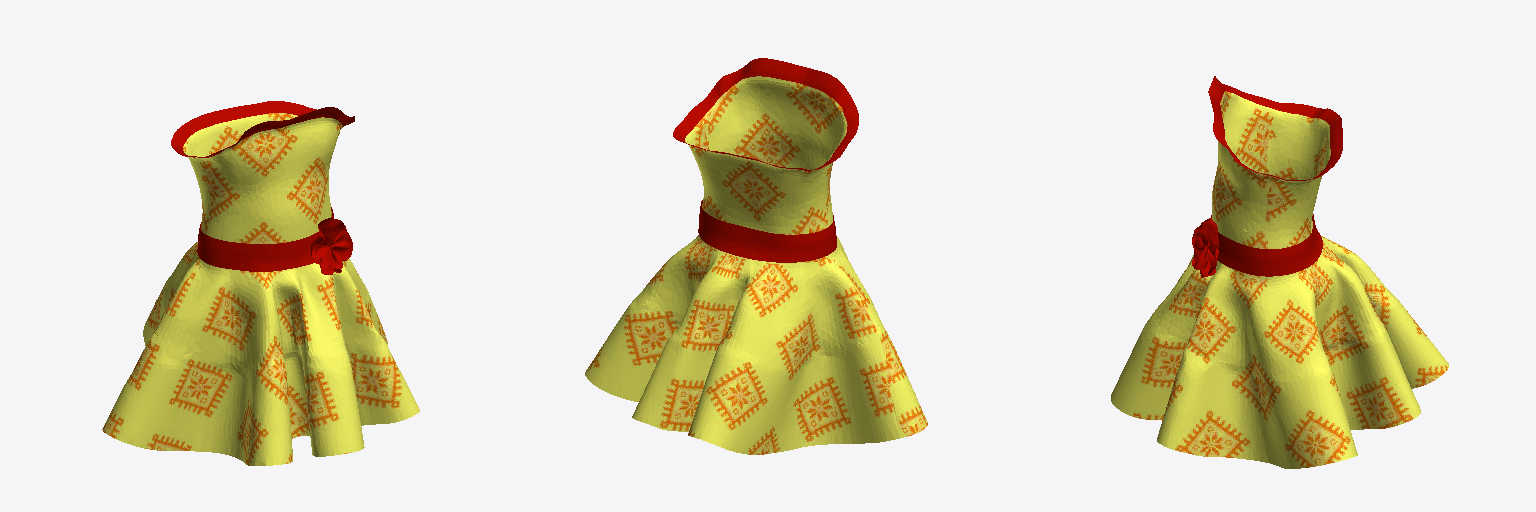
3 views of the same model, side by side, from view 1: azimuth 30°, elevation 25°; view 2: azimuth 150°, elevation 25°; view 3: azimuth 270°, elevation 25° (orthographic).
Parts seen in each view (by area): view 1: Shape.001; view 2: Shape.001; view 3: Shape.001.
Boxes of the visible parts, <box> form: Shape.001: <box>102,101,419,465</box>; Shape.001: <box>585,58,927,454</box>; Shape.001: <box>1111,76,1448,468</box>.
Bounding box in the file's own units: 0.5242 × 0.5374 × 0.5013.
Materials: 2 (1 with a texture image).